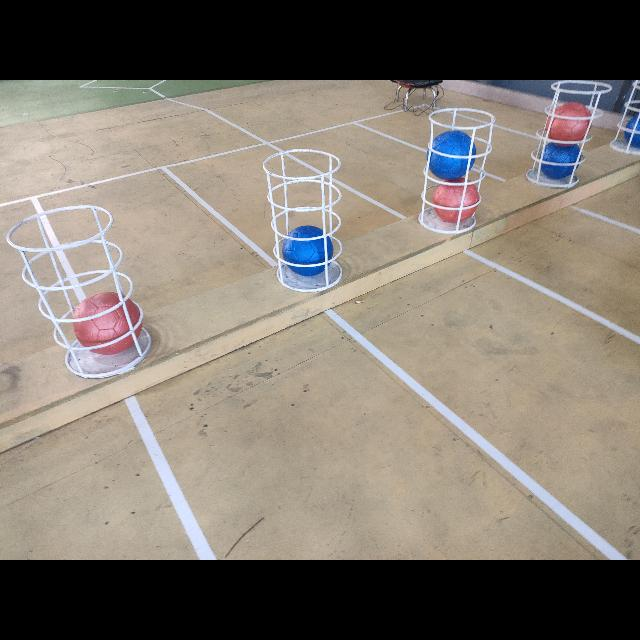B: (283, 226, 335, 276), (429, 130, 479, 180), (540, 143, 582, 181), (624, 114, 640, 150)
R: (73, 292, 141, 356), (434, 179, 481, 223), (546, 102, 592, 146)
